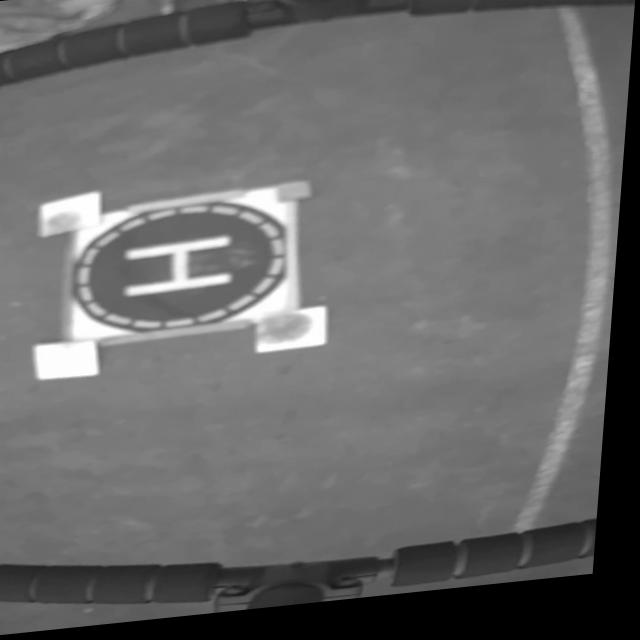Helipad: (127, 238, 236, 299)
